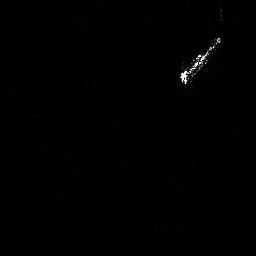ship: (174, 34, 225, 86)
